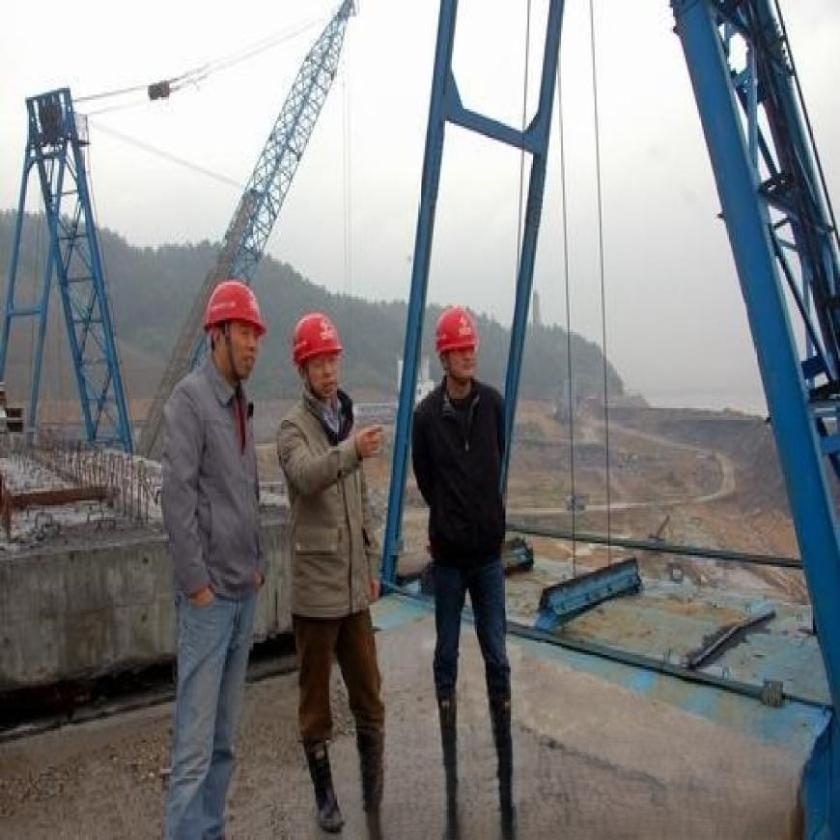Con_casco: (202, 276, 268, 396), (292, 311, 346, 403), (429, 300, 485, 386)
